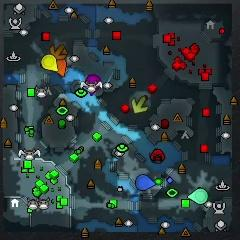p1: (135, 175, 155, 191)
p2: (187, 188, 208, 206)
p3: (85, 75, 101, 96)
p4: (41, 55, 58, 72)
p5: (56, 58, 67, 76)
x2: (132, 96, 148, 114)
x5: (50, 45, 66, 60)
